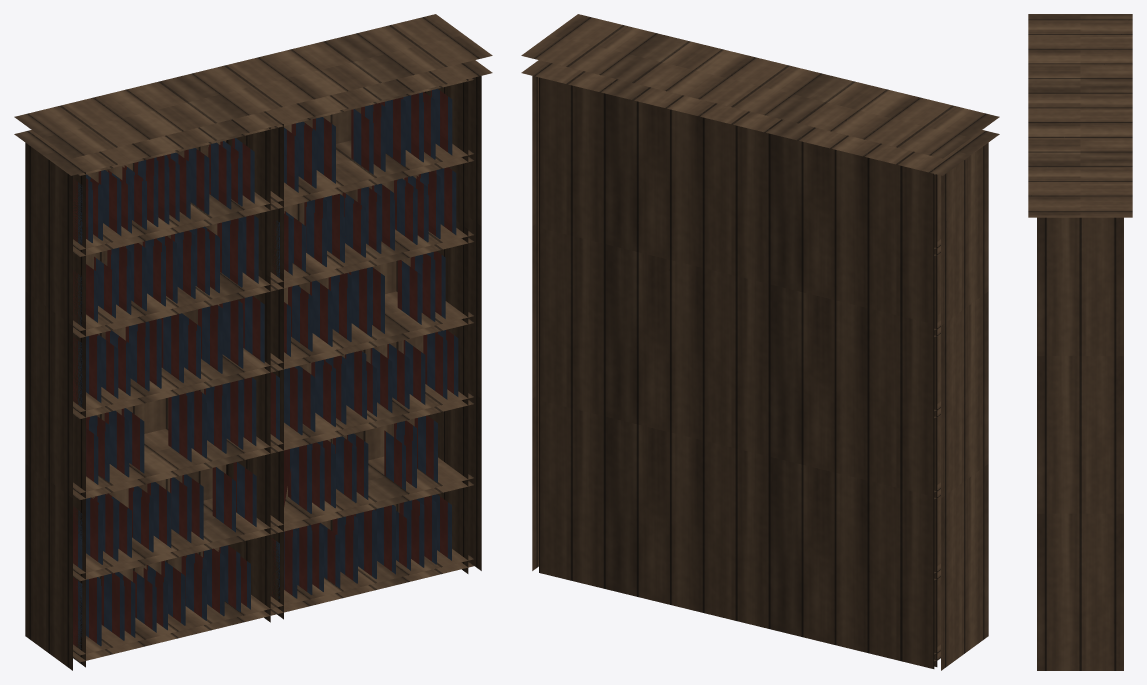
The model's file is Bookcase_Tall_1_LOD1.gltf.
The picture shows the model from 3 angles, left to right: view 1: azimuth 30°, elevation 25°; view 2: azimuth 150°, elevation 25°; view 3: azimuth 270°, elevation 25°; orthographic projection. The views are drawn at different scales.
Parts seen in each view (by area): view 1: Bookcase_Tall_1_LOD1; view 2: Bookcase_Tall_1_LOD1; view 3: Bookcase_Tall_1_LOD1.
Part boxes in pixels (x1=…): Bookcase_Tall_1_LOD1: x1=14, y1=14, x2=492, y2=670; Bookcase_Tall_1_LOD1: x1=521, y1=14, x2=999, y2=670; Bookcase_Tall_1_LOD1: x1=1028, y1=14, x2=1132, y2=670.
Size of the model in its own units: 2.56 by 3 by 0.6.
2 materials, 2 textured.
